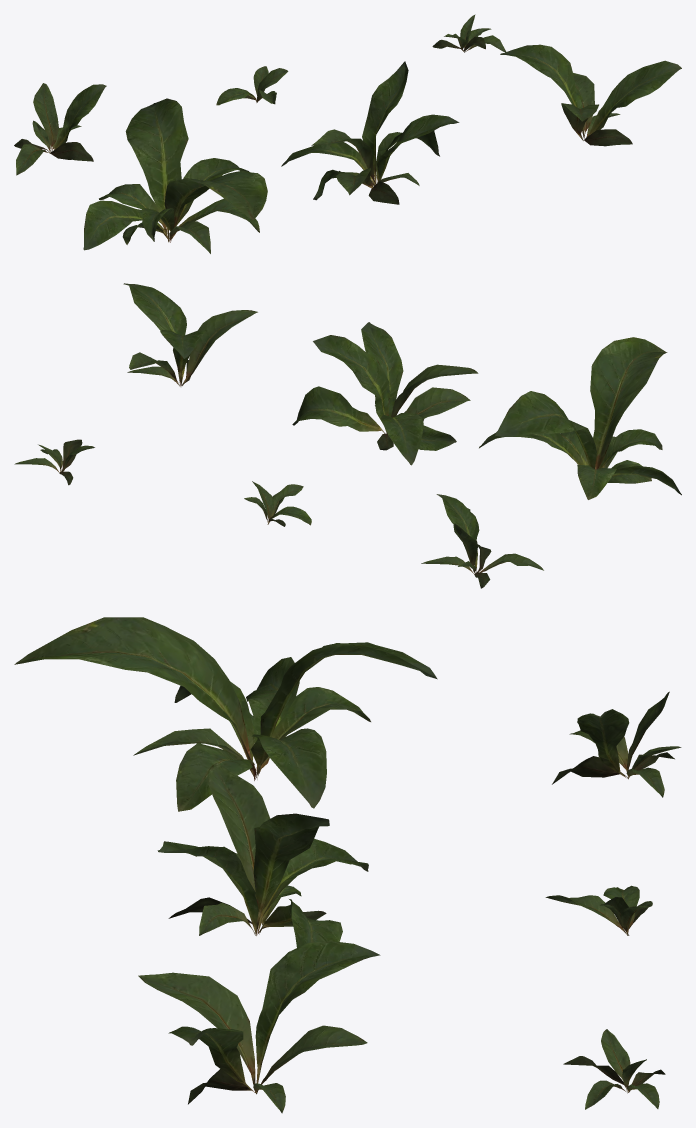
Rendered from anthurium_botany_01.glb.
3 renders of one model, top to bottom at view 1: azimuth 30°, elevation 25°; view 2: azimuth 150°, elevation 25°; view 3: azimuth 270°, elevation 25°, orthographic. The views are drawn at different scales.
Visible parts, largest first — view 1: anthurium_botany_01_a, anthurium_botany_01_b, anthurium_botany_01_c, anthurium_botany_04_d, anthurium_botany_05_e, anthurium_botany_06_f; view 2: anthurium_botany_01_a, anthurium_botany_01_b, anthurium_botany_01_c, anthurium_botany_04_d, anthurium_botany_05_e, anthurium_botany_06_f; view 3: anthurium_botany_01_a, anthurium_botany_01_b, anthurium_botany_01_c, anthurium_botany_04_d, anthurium_botany_06_f, anthurium_botany_05_e.
Part boxes in pixels (x1,y1,x2,y2): anthurium_botany_01_a: (83,98,267,253); anthurium_botany_01_b: (281,61,459,204); anthurium_botany_01_c: (500,44,681,146); anthurium_botany_04_d: (14,83,106,175); anthurium_botany_05_e: (216,66,288,105); anthurium_botany_06_f: (432,14,506,52); anthurium_botany_01_a: (479,337,681,499); anthurium_botany_01_b: (292,322,478,465); anthurium_botany_01_c: (123,283,257,386); anthurium_botany_04_d: (421,494,543,588); anthurium_botany_05_e: (244,481,311,526); anthurium_botany_06_f: (14,439,94,485); anthurium_botany_01_a: (14,617,437,811); anthurium_botany_01_b: (157,762,368,947); anthurium_botany_01_c: (138,941,380,1113); anthurium_botany_04_d: (552,691,681,797); anthurium_botany_06_f: (563,1029,665,1109); anthurium_botany_05_e: (545,885,652,935).
Size of the model in its own units: 2.79 by 0.4981 by 1.8.
Materials: 1 (1 with a texture image).
